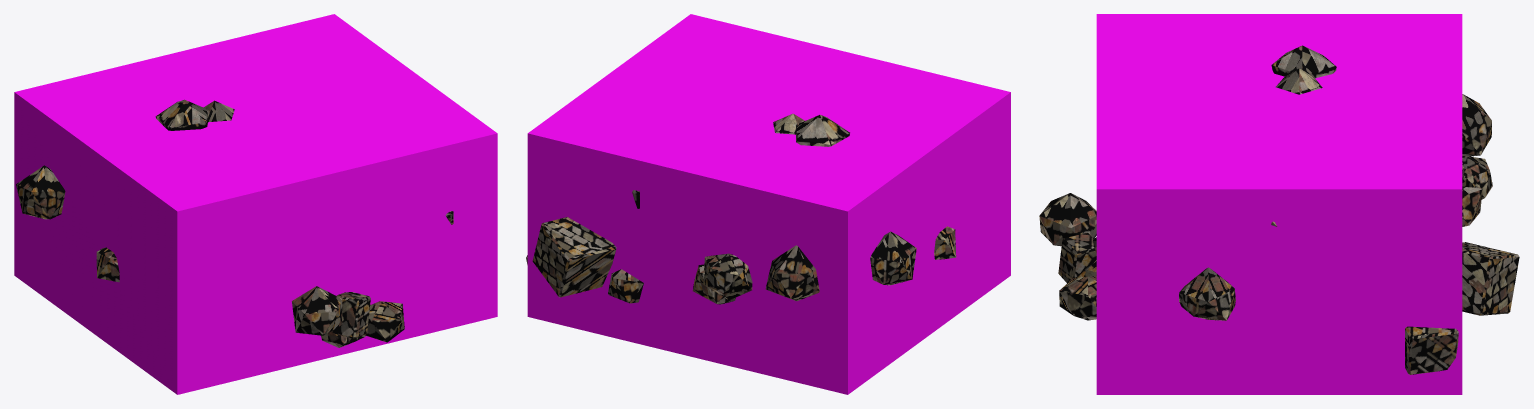
Rendered from prop_rubble_large.glb.
3 renders of one model, left to right at view 1: azimuth 30°, elevation 25°; view 2: azimuth 150°, elevation 25°; view 3: azimuth 270°, elevation 25°, orthographic. The views are drawn at different scales.
Visible parts, largest first — view 1: prop_rubble_large-col, Rubble; view 2: prop_rubble_large-col, Rubble; view 3: prop_rubble_large-col, Rubble.
Part boxes in pixels (<box>): prop_rubble_large-col: <box>14,14,497,394</box>; Rubble: <box>16,99,453,347</box>; prop_rubble_large-col: <box>527,14,1010,394</box>; Rubble: <box>526,113,956,304</box>; prop_rubble_large-col: <box>1096,14,1462,394</box>; Rubble: <box>1039,45,1519,374</box>.
Bounding box in the file's own units: 1.95 × 1.01 × 1.92.
Materials: 2 (1 with a texture image).
